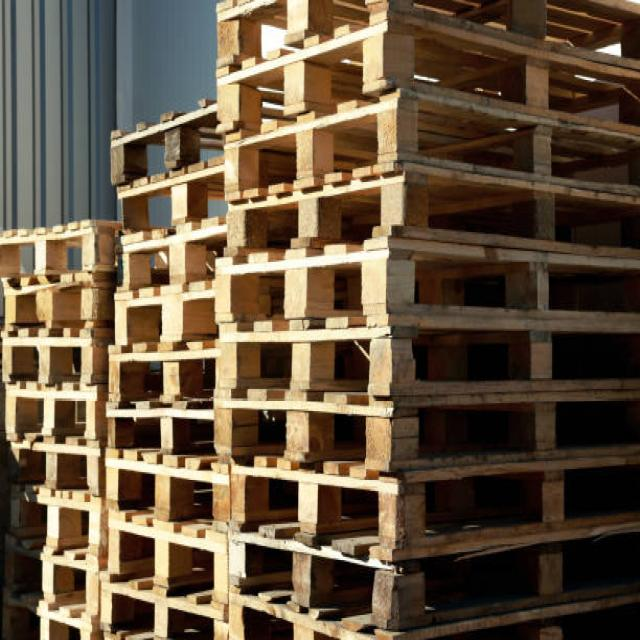Wooden-Pallets: (212, 19, 640, 137), (223, 97, 640, 207), (222, 452, 639, 559), (230, 529, 638, 637), (222, 157, 632, 264), (215, 240, 640, 328), (212, 322, 635, 401), (102, 443, 231, 539), (105, 501, 226, 596), (106, 280, 222, 361), (116, 215, 225, 291), (0, 274, 103, 348), (0, 379, 101, 449)
